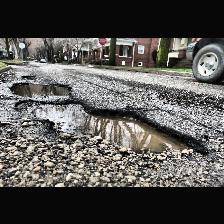pothole: (13, 99, 205, 158), (8, 81, 72, 97), (20, 74, 36, 78)
